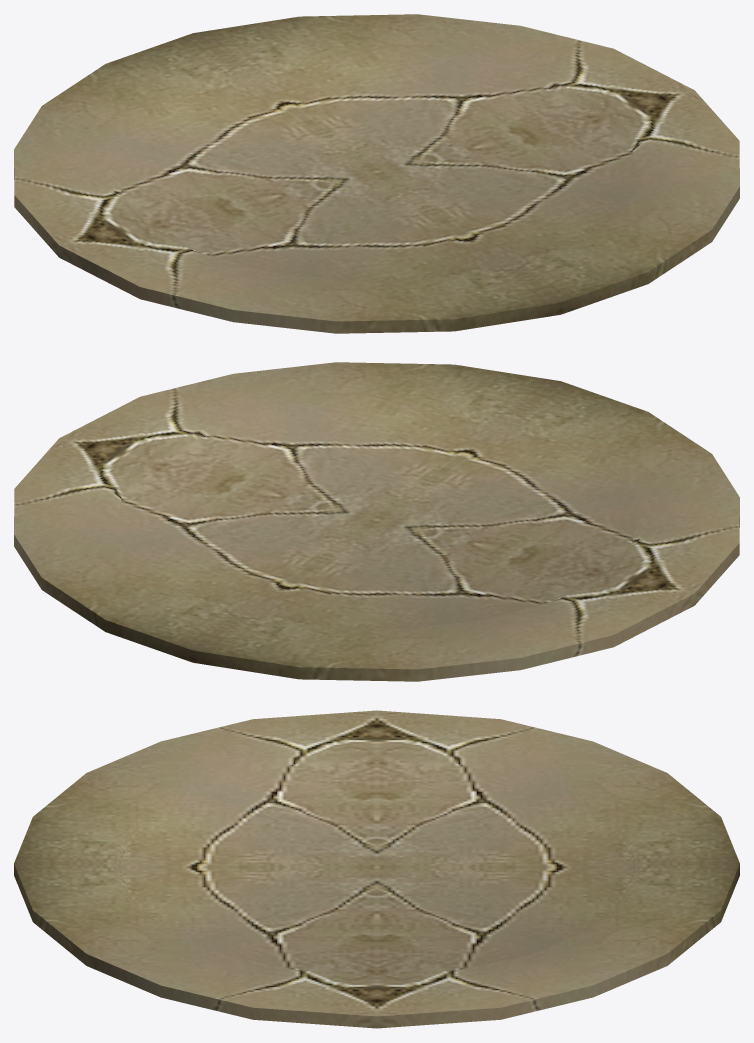
The model's file is GW_dipan_001.FBX.
3 views of the same model, one above another, from view 1: azimuth 30°, elevation 25°; view 2: azimuth 150°, elevation 25°; view 3: azimuth 270°, elevation 25° (orthographic).
Visible parts, largest first — view 1: GW_dipan_001; view 2: GW_dipan_001; view 3: GW_dipan_001.
Boxes of the visible parts, box(x1,y1,x2,y2) form: GW_dipan_001: box(14, 14, 739, 333); GW_dipan_001: box(14, 362, 739, 681); GW_dipan_001: box(14, 710, 739, 1028).
Size of the model in its own units: 899 by 16.51 by 901.
